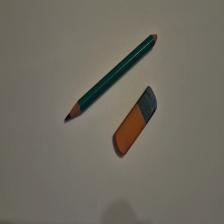eraser: (115, 86, 159, 156)
pencil: (65, 35, 158, 123)
